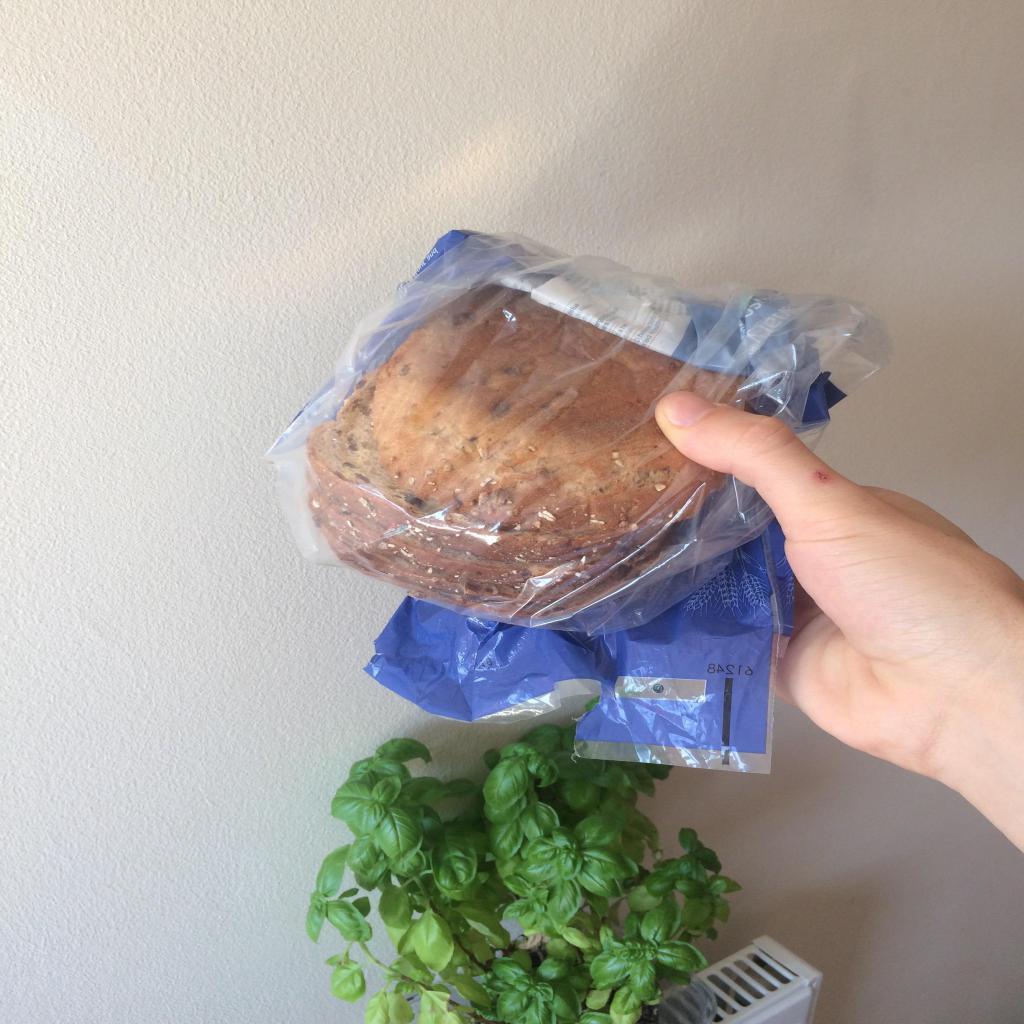Food waste: (304, 294, 746, 614)
Plastic film: (264, 228, 894, 774)
